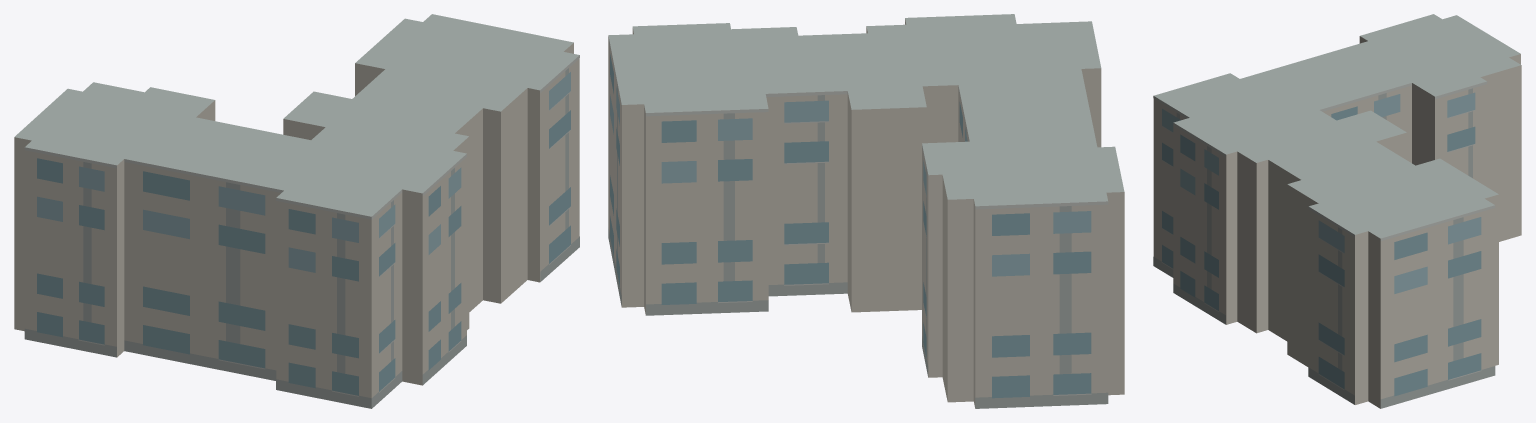
The model's file is residential-892bdd3c-c272-4a1e-a840-8c6aa3e509f1.glb.
3 renders of one model, left to right at view 1: azimuth 30°, elevation 25°; view 2: azimuth 150°, elevation 25°; view 3: azimuth 270°, elevation 25°, orthographic. The views are drawn at different scales.
Visible parts, largest first — view 1: residential-892bdd3c-c272-4a1e-a840-8c6aa3e509f1.tmp; view 2: residential-892bdd3c-c272-4a1e-a840-8c6aa3e509f1.tmp; view 3: residential-892bdd3c-c272-4a1e-a840-8c6aa3e509f1.tmp.
Part boxes in pixels (bbox=[...]): residential-892bdd3c-c272-4a1e-a840-8c6aa3e509f1.tmp: bbox=[14, 14, 579, 408]; residential-892bdd3c-c272-4a1e-a840-8c6aa3e509f1.tmp: bbox=[608, 14, 1124, 408]; residential-892bdd3c-c272-4a1e-a840-8c6aa3e509f1.tmp: bbox=[1153, 14, 1521, 408].
Bounding box in the file's own units: 43.15 × 15.25 × 29.87.
